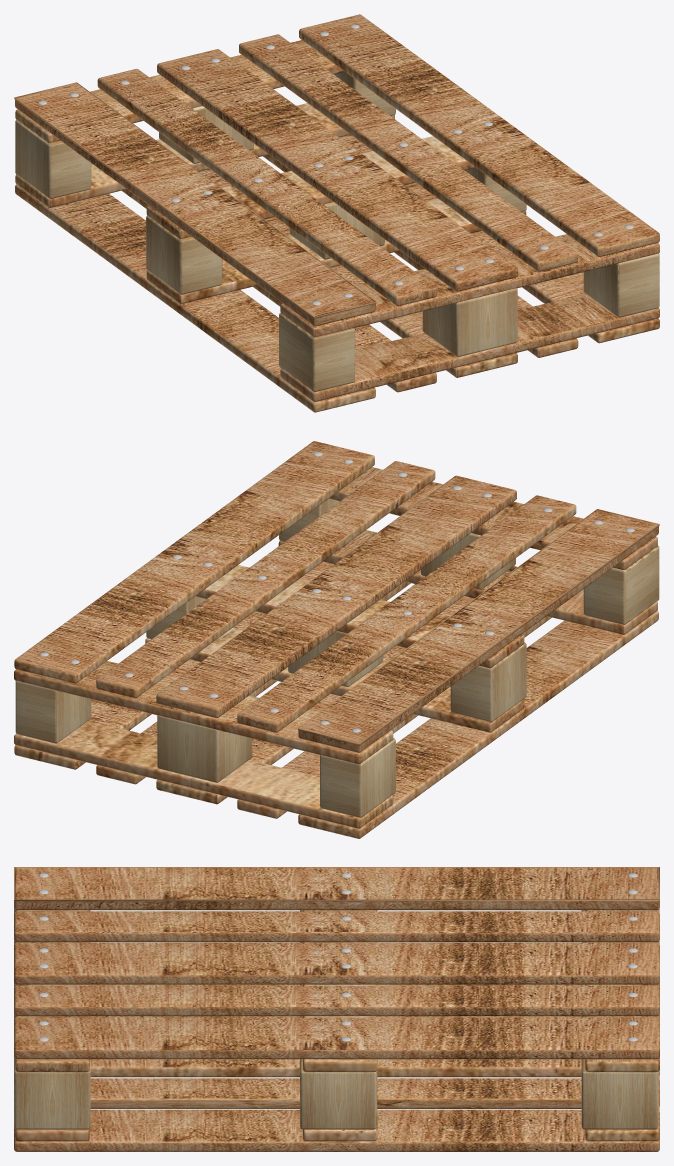
File: palet.obj
3 views of the same model, one above another, from view 1: azimuth 30°, elevation 25°; view 2: azimuth 150°, elevation 25°; view 3: azimuth 270°, elevation 25° (orthographic). The views are drawn at different scales.
Parts seen in each view (by area): view 1: Cylinder.002; view 2: Cylinder.002; view 3: Cylinder.002.
Part boxes in pixels (x1=…): Cylinder.002: x1=14, y1=14, x2=659, y2=412; Cylinder.002: x1=14, y1=441, x2=659, y2=838; Cylinder.002: x1=14, y1=867, x2=659, y2=1151.
Bounding box in the file's own units: 8.26 × 2.21 × 12.34.
Materials: 3 (2 with a texture image).
